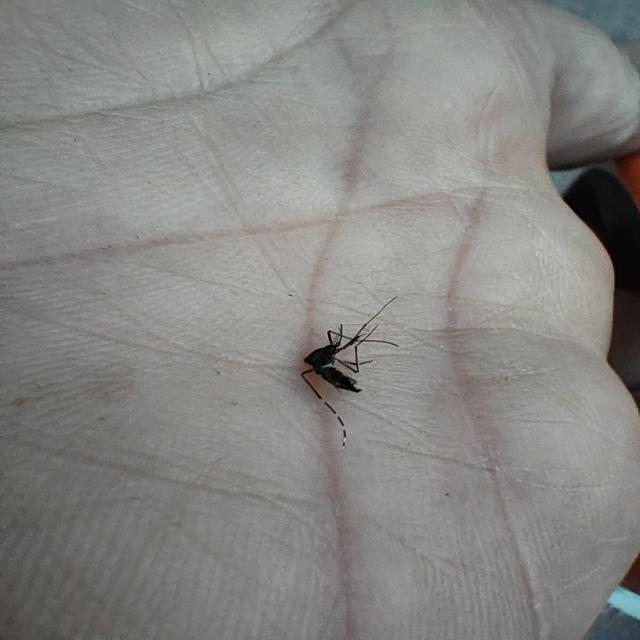albopictus: (281, 291, 411, 458)
